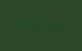four: (54, 20, 62, 31)
nine: (27, 19, 35, 30)
seven: (18, 19, 26, 30)
two: (36, 19, 44, 31), (45, 20, 53, 31)
